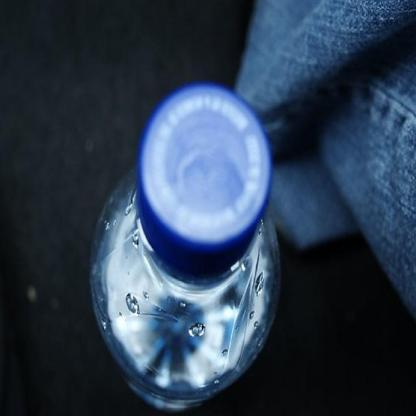Plastic Bottle: (90, 82, 280, 412)
